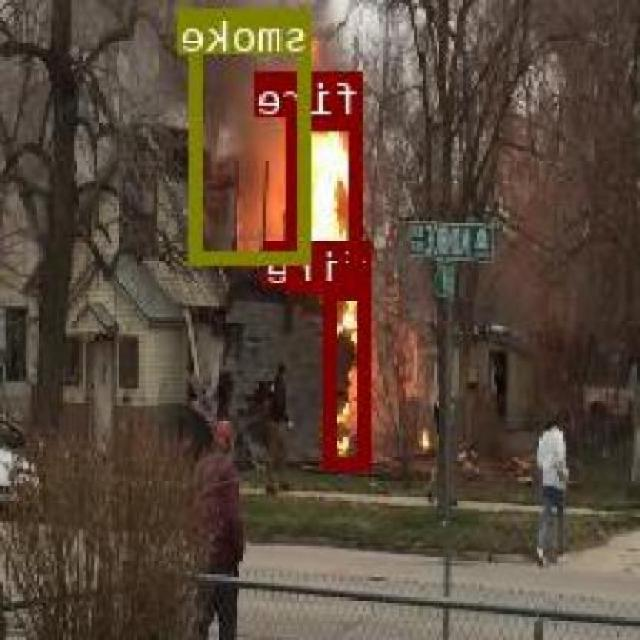Fire: (292, 116, 366, 290), (328, 283, 372, 466)
Smoke: (192, 8, 314, 262)
